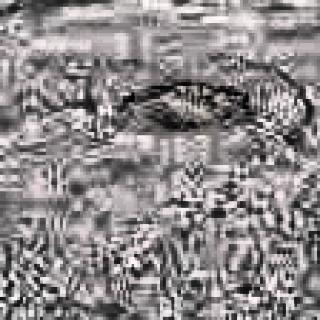pothole: (122, 73, 256, 134)
